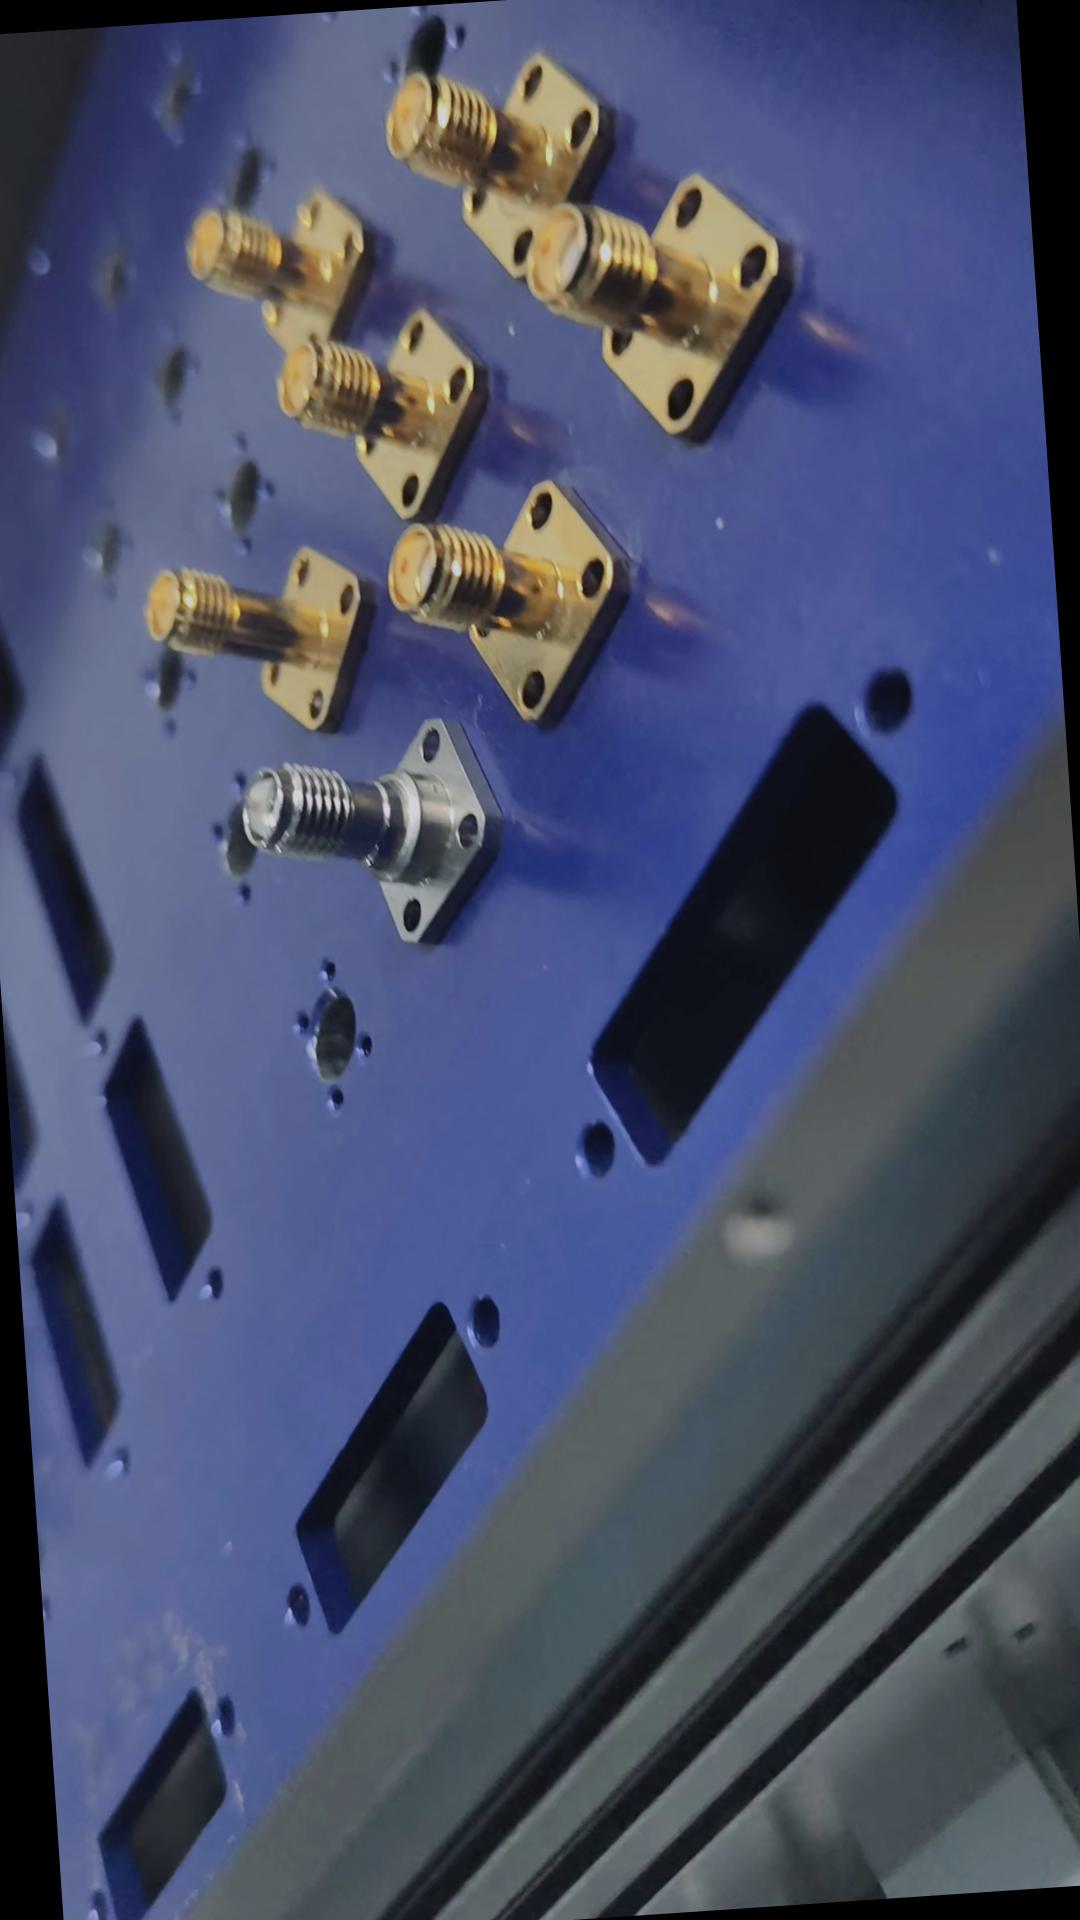SMA: (516, 166, 790, 448), (378, 451, 632, 735), (233, 696, 506, 957), (262, 282, 489, 538), (135, 530, 377, 749)
